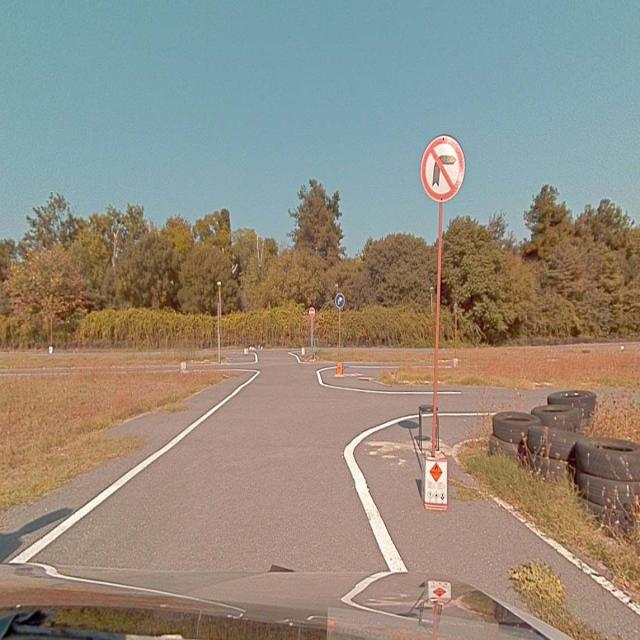girisyok: (308, 306, 314, 316)
sag: (336, 293, 344, 307)
sagadonulmez: (421, 135, 465, 200)
